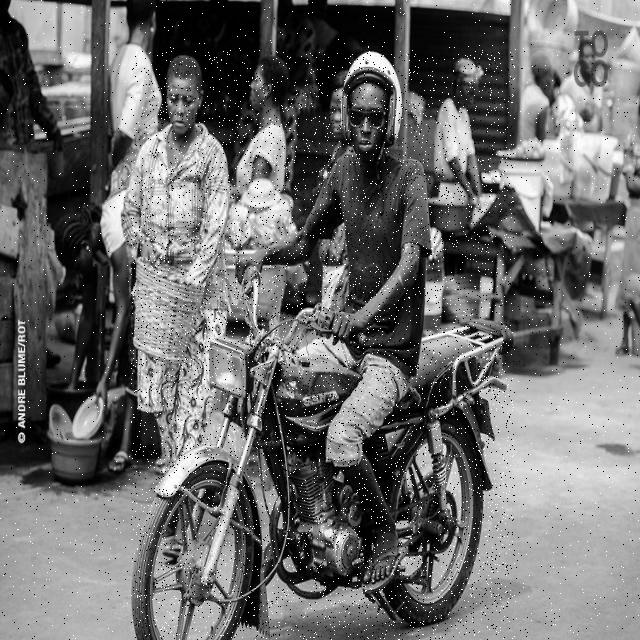Motorbike: (131, 50, 515, 640)
